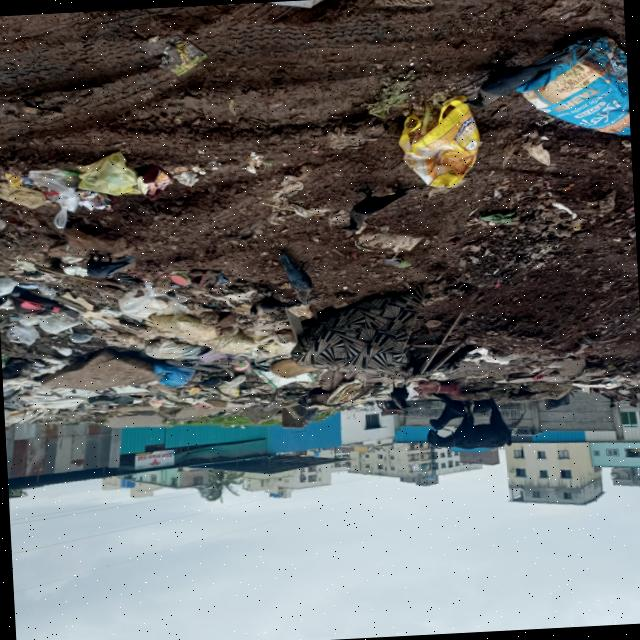garbage: (0, 243, 402, 434), (0, 144, 167, 221), (571, 352, 640, 393)
